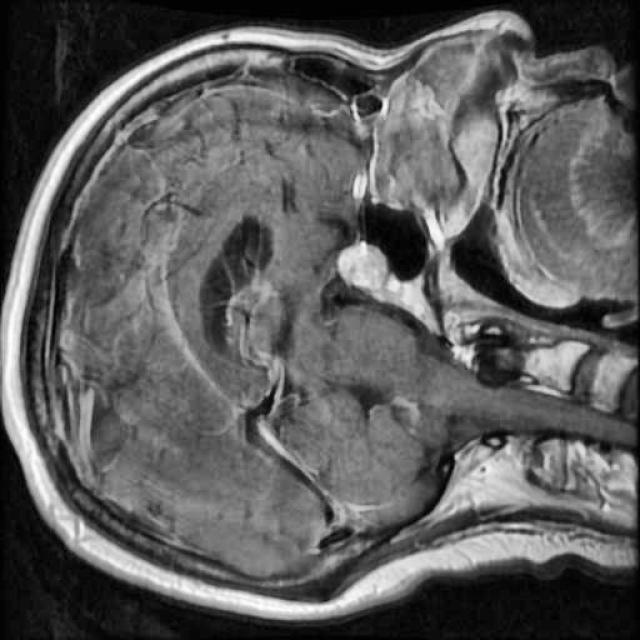Tumor: (331, 231, 398, 306)
